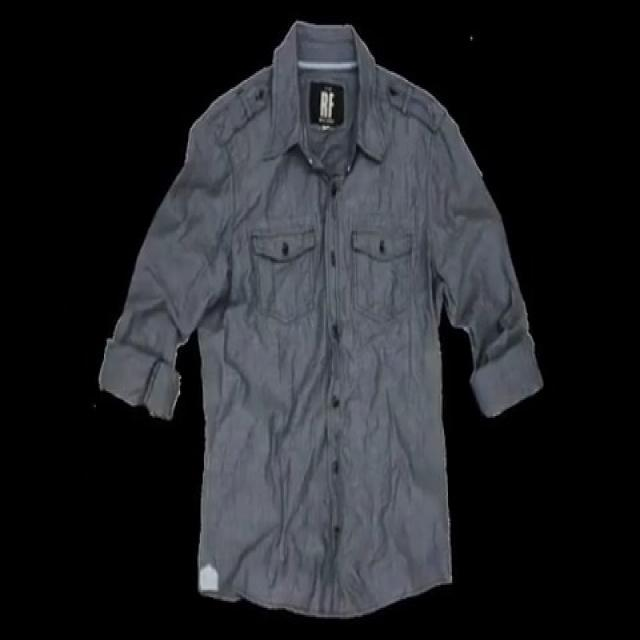Shirt: (98, 20, 546, 620)
